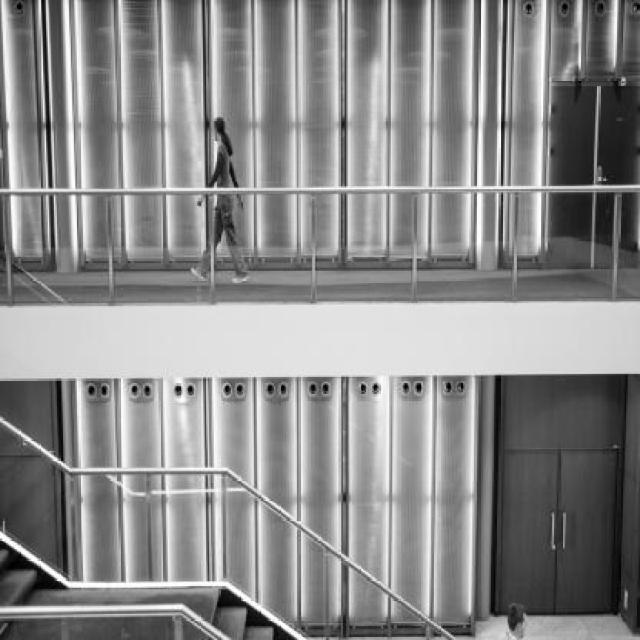stair: (202, 583, 302, 640), (0, 532, 42, 638)
